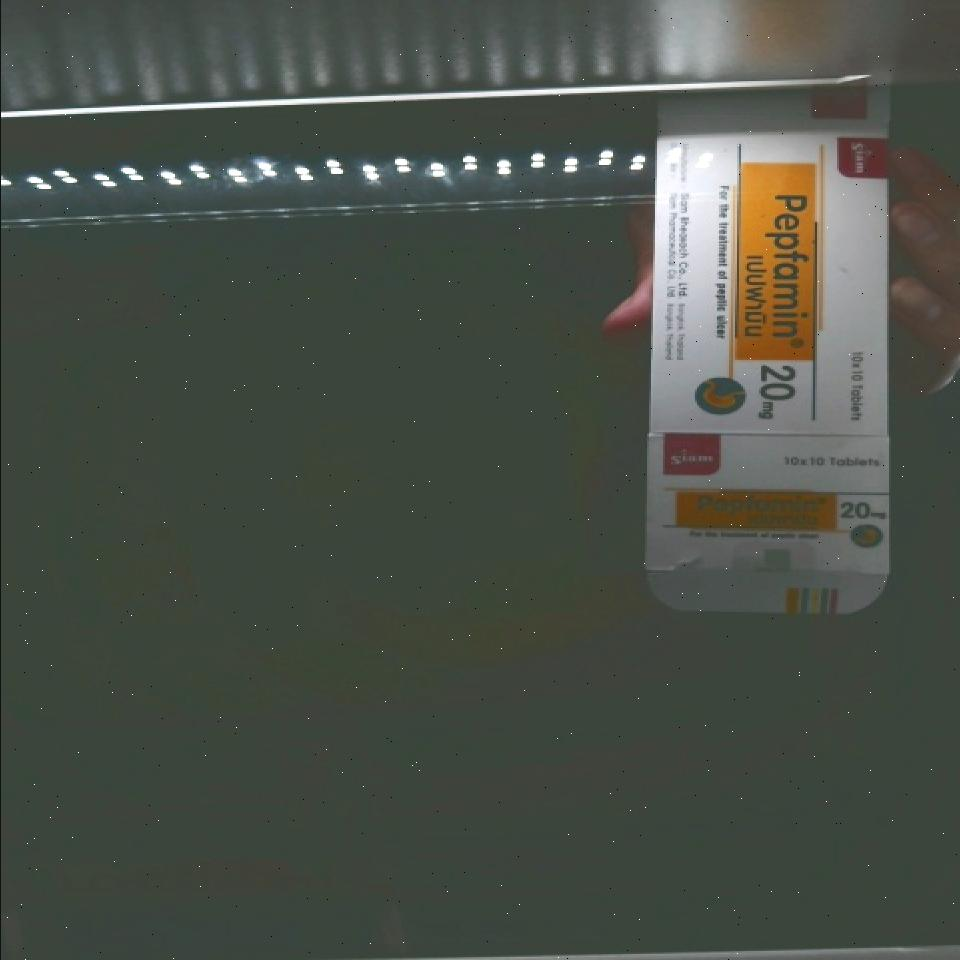medicine_box: (641, 87, 887, 610)
medicine_label_obb: (738, 178, 821, 358)
